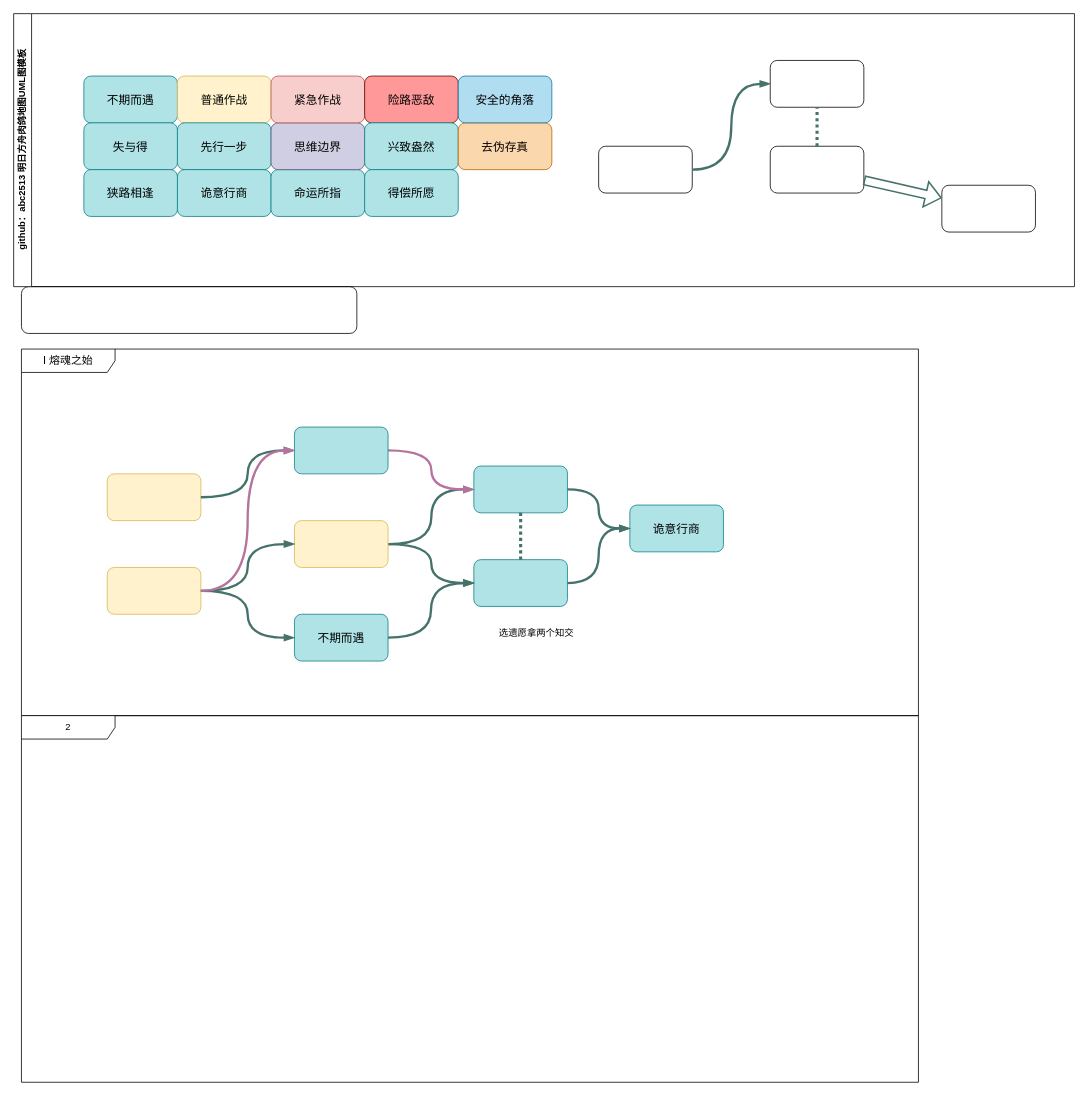
Image size: 1088x1096. Some labels were removed from this diagram. The centre of each missing label's shape, as x and y in pixels:
"不期而遇 在故事结束之后" belongs at (x=341, y=450).
"不期而遇 虫卡兹" belongs at (x=520, y=582).
"不期而遇 阴魂不散" belongs at (x=520, y=489).
"分叉路示例" belongs at (x=816, y=169).
"刷新节点" belongs at (x=988, y=208).
"参数" belongs at (x=189, y=309).
"普通作战 冰川期" belongs at (x=153, y=497).
"普通作战 坏邻居 先锋券" belongs at (x=153, y=590).
"普通作战 安全检查" belongs at (x=341, y=543).
"道路示例" belongs at (x=645, y=169).
